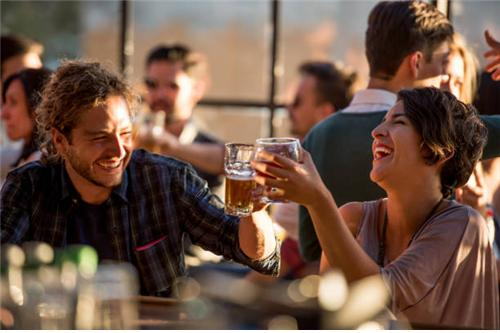alcohol: (258, 137, 303, 204), (225, 141, 262, 218)
